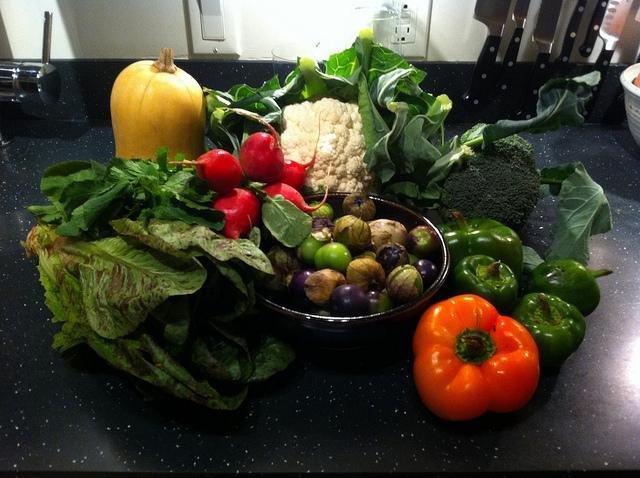bell pepper: (411, 294, 540, 422), (435, 210, 524, 288), (512, 292, 586, 371), (526, 259, 614, 318), (447, 254, 519, 316)
broccoli: (438, 123, 541, 229)
cauliflower: (327, 136, 347, 153)
radish: (216, 107, 284, 183), (272, 111, 322, 191), (258, 163, 332, 213), (168, 148, 244, 194), (210, 188, 260, 240)
